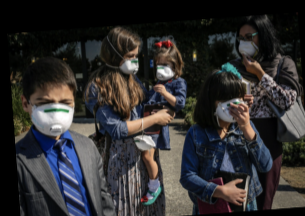with_mask: (28, 93, 76, 137), (215, 95, 244, 125), (235, 31, 259, 59), (117, 50, 139, 76), (154, 60, 174, 81)
